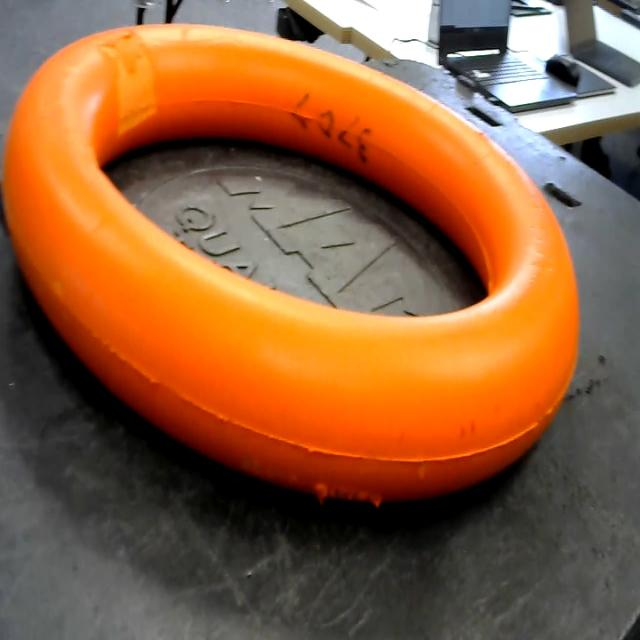note: (2, 11, 592, 505)
